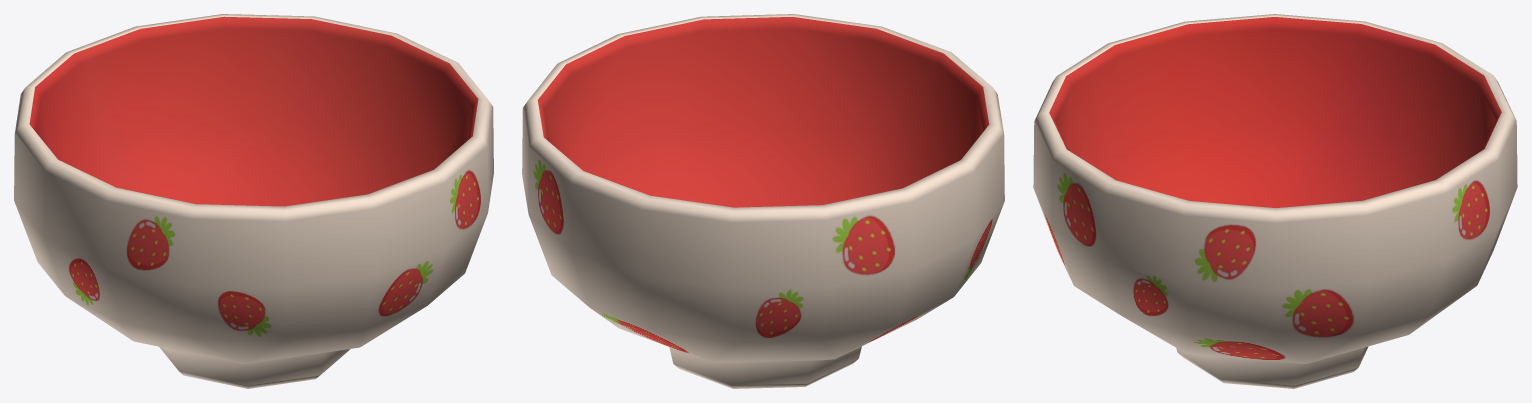
Rendered from Homestead_cm_10.fbx.
The picture shows the model from 3 angles, left to right: view 1: azimuth 30°, elevation 25°; view 2: azimuth 150°, elevation 25°; view 3: azimuth 270°, elevation 25°; orthographic projection.
Parts seen in each view (by area): view 1: Homestead_cm_10; view 2: Homestead_cm_10; view 3: Homestead_cm_10.
Part boxes in pixels (<box>): Homestead_cm_10: <box>14,14,493,388</box>; Homestead_cm_10: <box>522,14,1004,388</box>; Homestead_cm_10: <box>1033,14,1517,388</box>.
Bounding box in the file's own units: 43.49 × 23.56 × 43.49.
